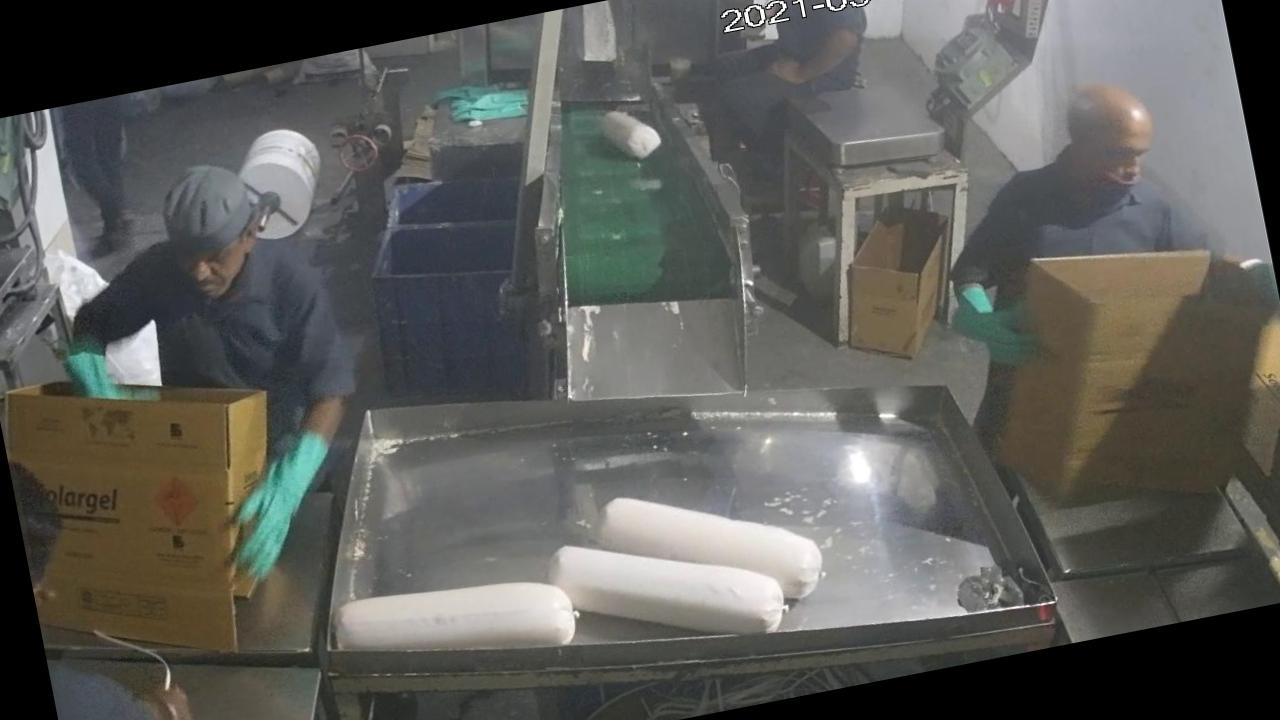Gloves: (194, 410, 358, 600), (930, 258, 1054, 390)
No-gloves: (760, 23, 880, 106)
